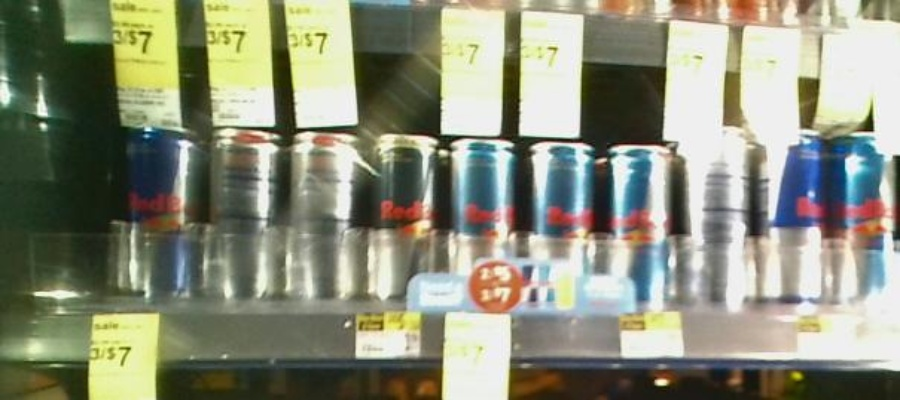bottle: (125, 117, 202, 319), (369, 114, 443, 318), (833, 110, 899, 338), (286, 118, 360, 318), (525, 129, 600, 326), (760, 114, 827, 334), (448, 121, 519, 326), (683, 123, 753, 326), (208, 118, 278, 316), (607, 133, 675, 328)
